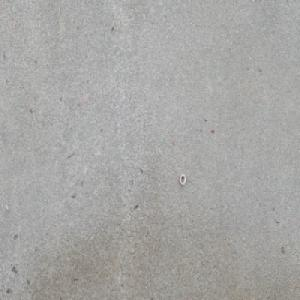Nut: (179, 173, 186, 186)
